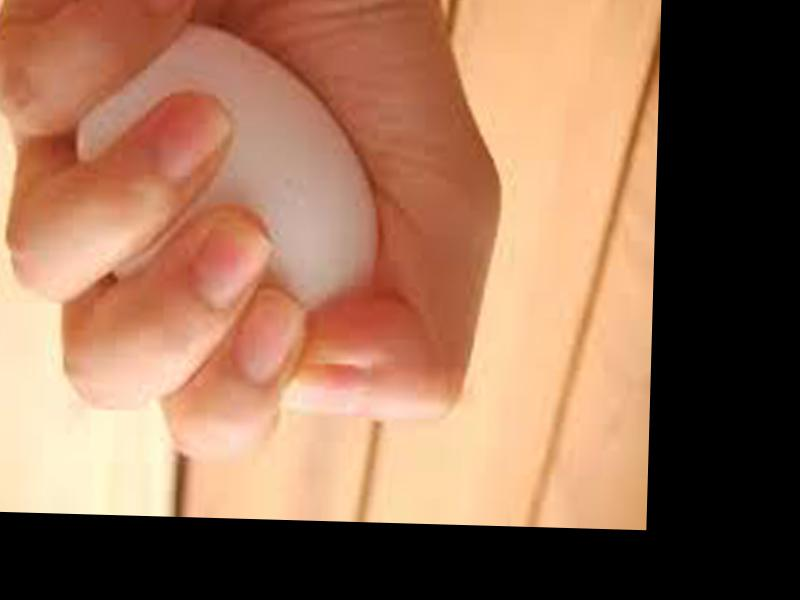Eggs: (66, 21, 383, 344)
